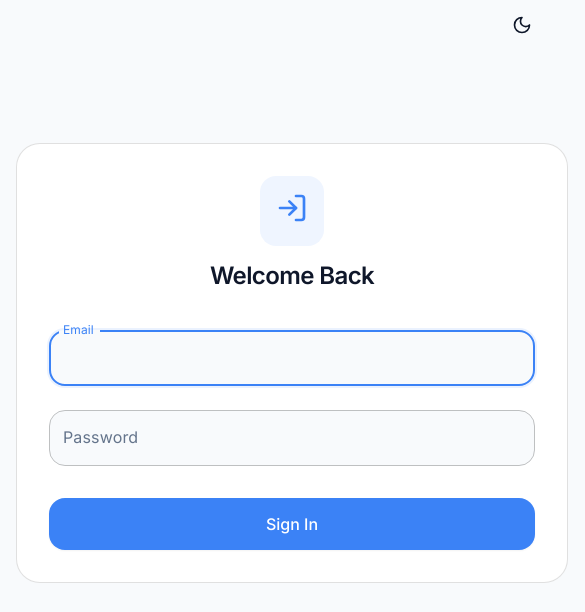
it: Login › shows validation error for invalid email
Type "invalid-email" into the field labelled "Email". click: coordinates (292, 358)
box: [49,330,535,386]
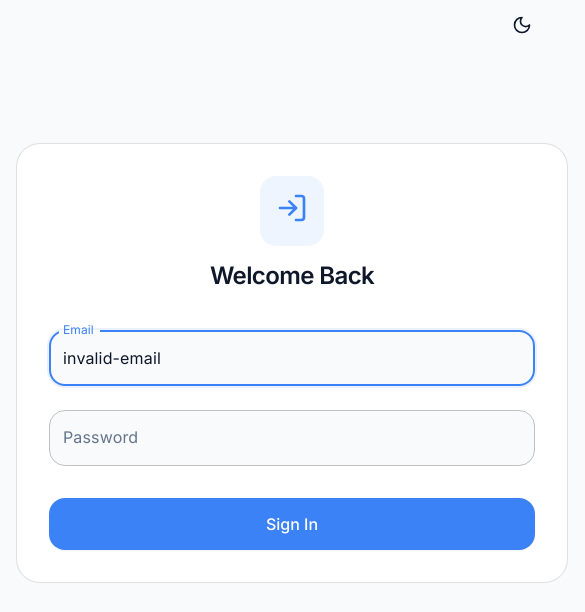
Leave the field labelled "Email", box [49,330,535,386]
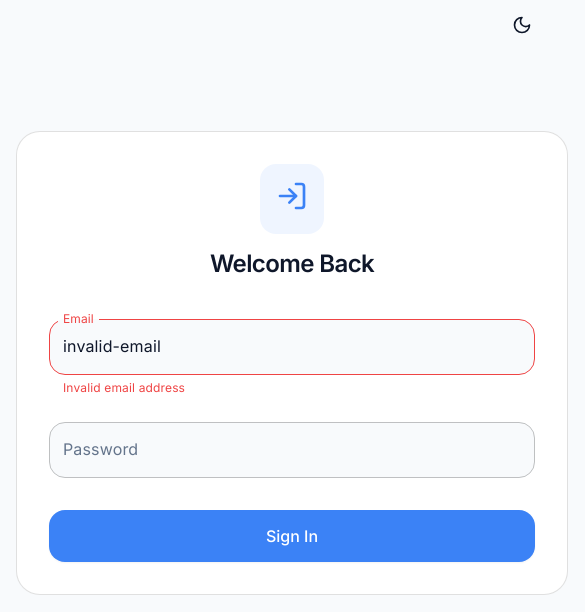
Expected: the text "Invalid email address" is shown, [63,380,185,395]
